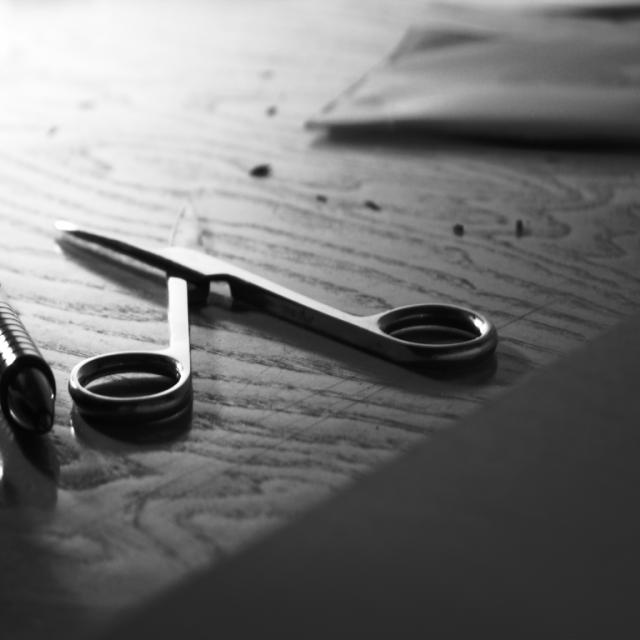scissors: (53, 208, 498, 426)
